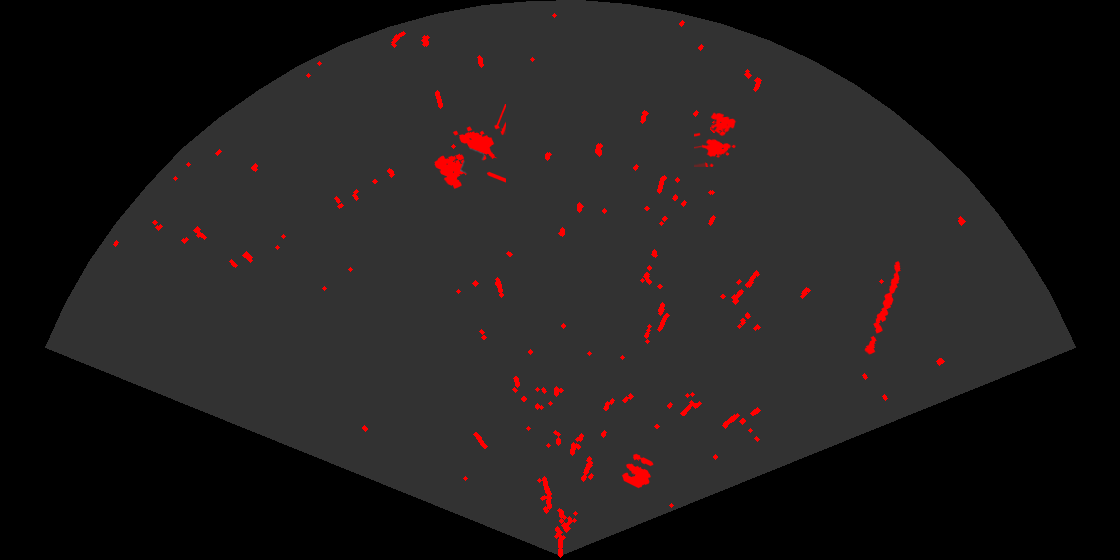ball: (620, 452, 655, 490)
cage: (433, 104, 506, 190), (694, 111, 738, 167)
chain: (863, 260, 902, 356)
